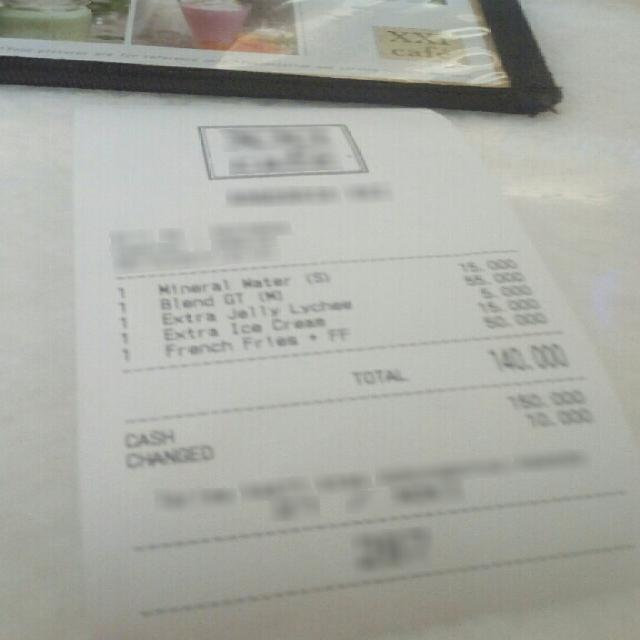kertas: (76, 101, 636, 639)
